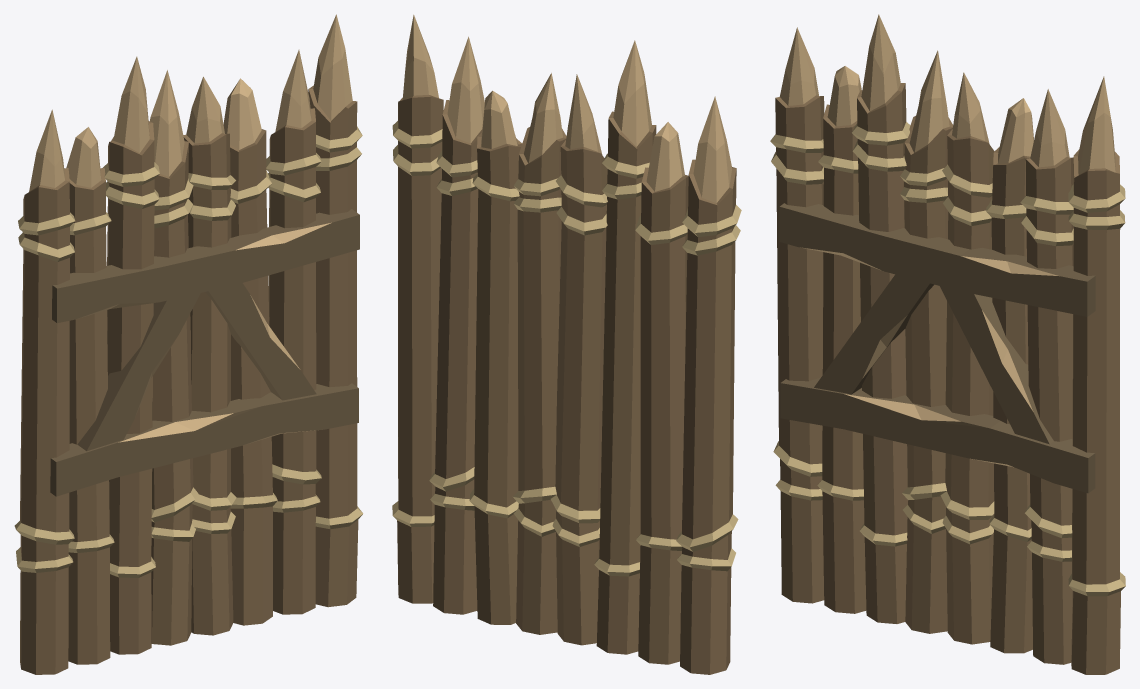
Rendered from rpgpp_ag_stockade_01f_4x6.fbx.
The picture shows the model from 3 angles, left to right: view 1: azimuth 30°, elevation 25°; view 2: azimuth 150°, elevation 25°; view 3: azimuth 330°, elevation 25°; orthographic projection.
Visible parts, largest first — view 1: rpgpp_ag_stockade_01f_4x6; view 2: rpgpp_ag_stockade_01f_4x6; view 3: rpgpp_ag_stockade_01f_4x6.
Boxes of the visible parts, <box> form: rpgpp_ag_stockade_01f_4x6: <box>14,14,363,674</box>; rpgpp_ag_stockade_01f_4x6: <box>392,14,741,674</box>; rpgpp_ag_stockade_01f_4x6: <box>770,14,1125,674</box>.
Size of the model in its own units: 4.14 by 6.92 by 0.8463.
